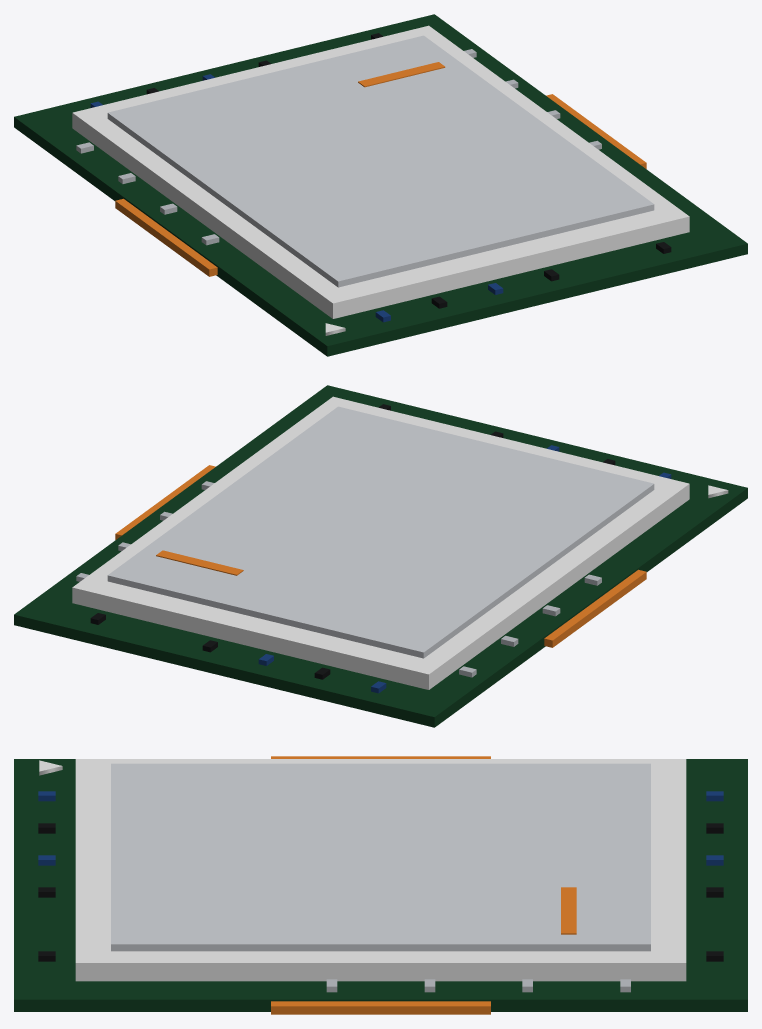
The model's file is hw_cpu_epyc_9654.glb.
3 views of the same model, one above another, from view 1: azimuth 30°, elevation 25°; view 2: azimuth 150°, elevation 25°; view 3: azimuth 270°, elevation 25° (orthographic). The views are drawn at different scales.
Parts seen in each view (by area): view 1: Body; view 2: Body; view 3: Body.
Boxes of the visible parts, x1=… form: Body: x1=14, y1=14, x2=747, y2=356; Body: x1=14, y1=385, x2=747, y2=727; Body: x1=14, y1=756, x2=747, y2=1014.
Bounding box in the file's own units: 0.0608 × 0.00467 × 0.0755.
